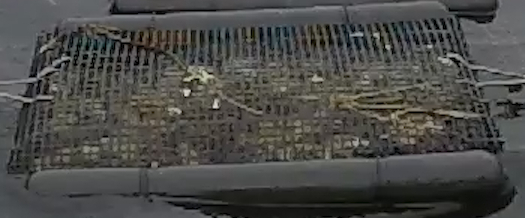bag: (3, 3, 503, 200)
